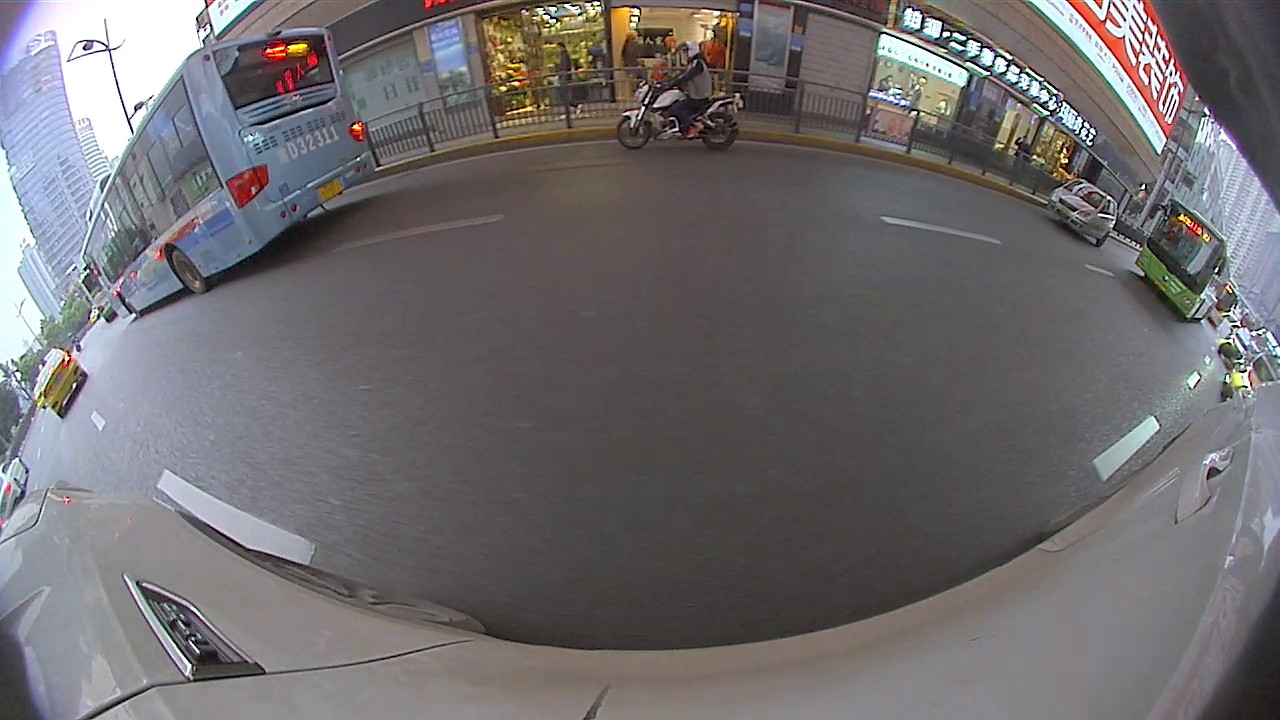bus: (83, 23, 369, 323), (1138, 194, 1233, 320)
car: (1043, 180, 1121, 247), (29, 343, 88, 423)
front: (616, 118, 650, 147)
rear: (153, 249, 209, 297), (701, 113, 738, 150)
rider: (617, 40, 746, 152)
